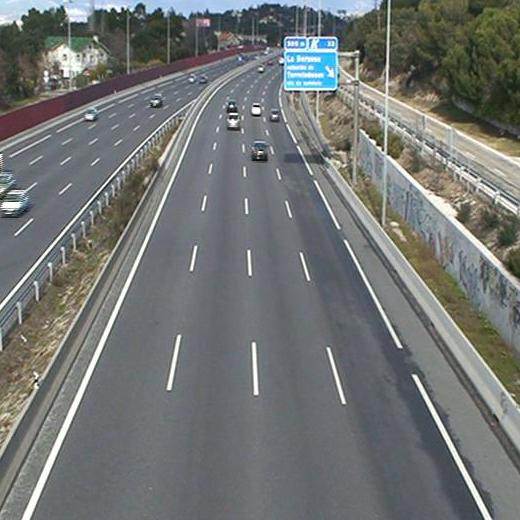car: (250, 138, 270, 158), (225, 111, 242, 129), (267, 107, 284, 125), (224, 98, 239, 115), (250, 103, 263, 118)
